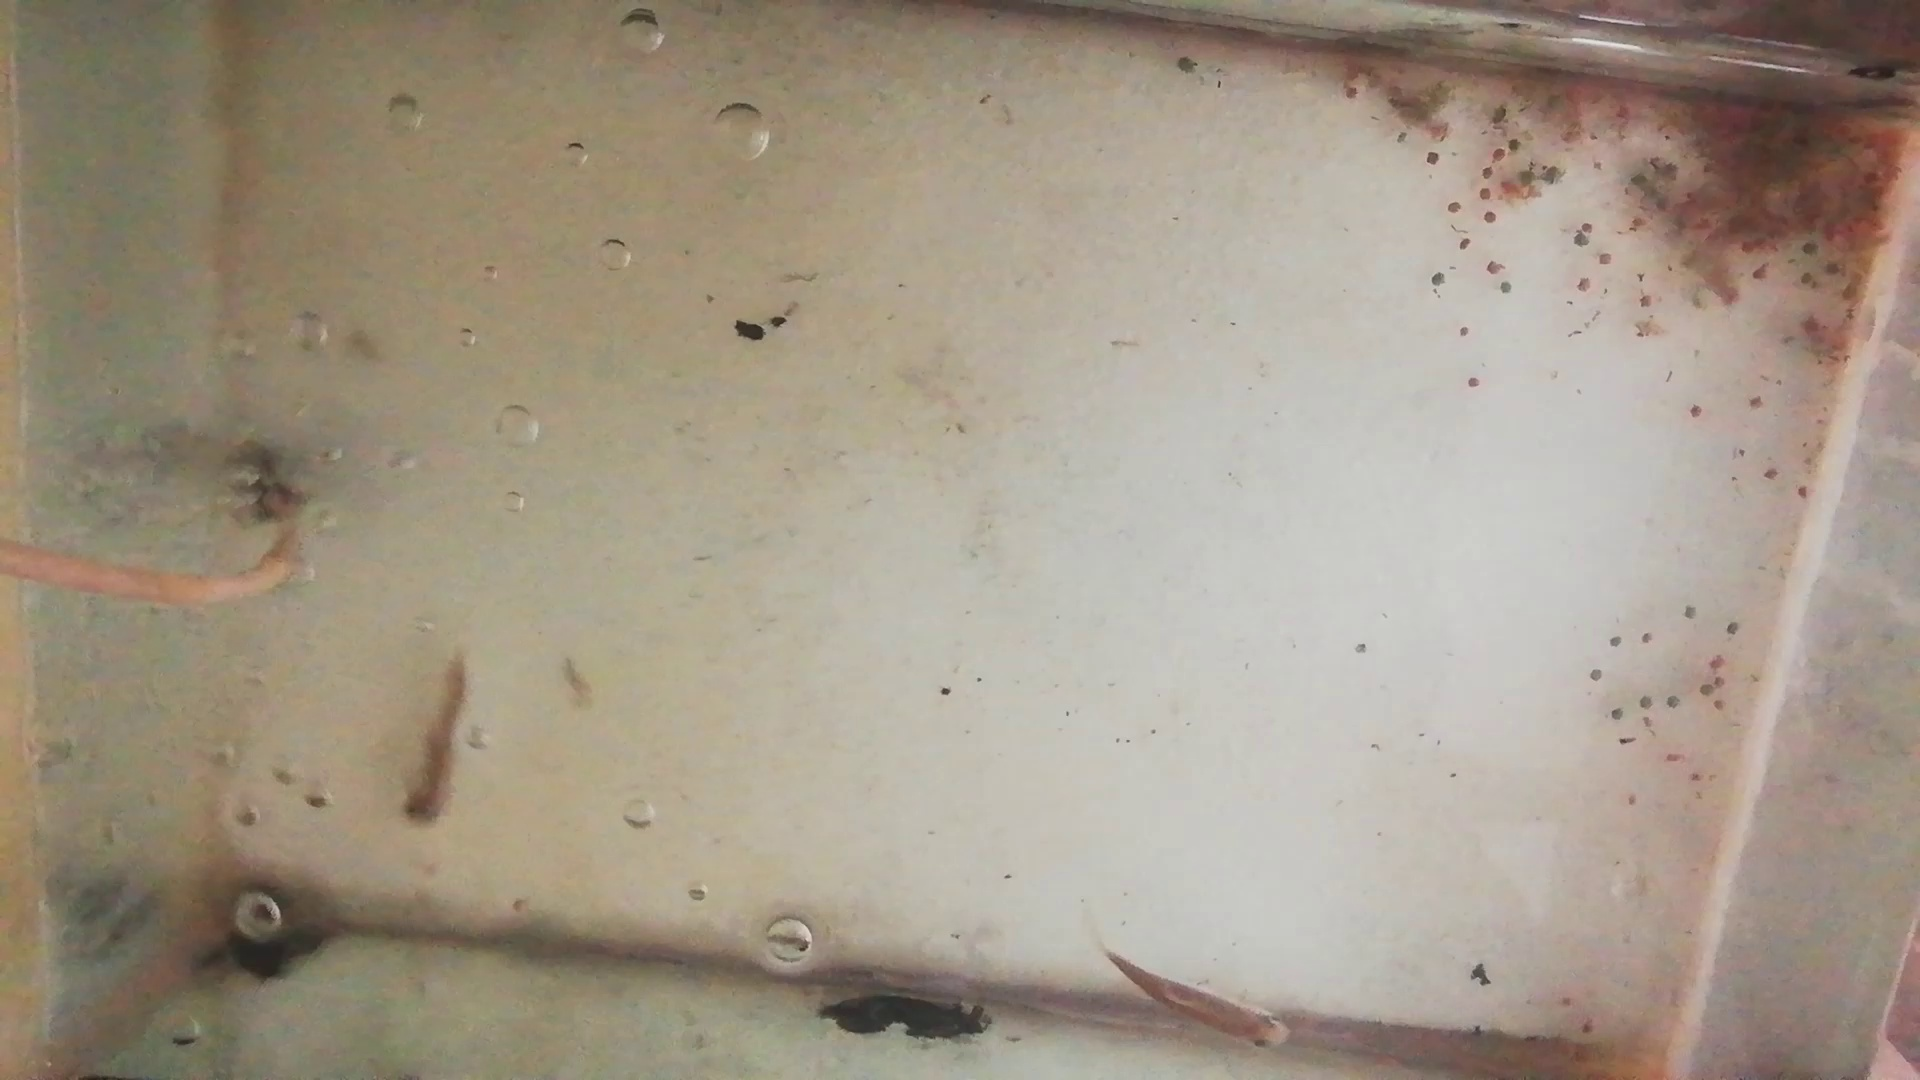fish: (1106, 955, 1294, 1054), (400, 653, 475, 833)
